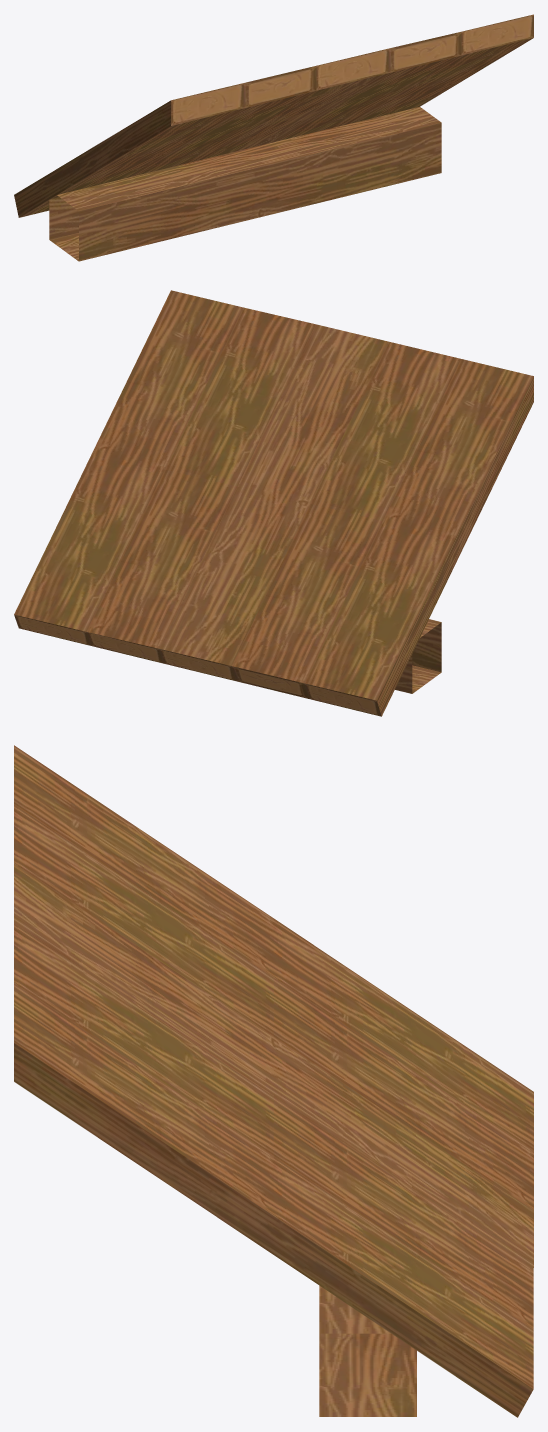
File: roof_wooden_2x1_center_mirror.glb
The picture shows the model from 3 angles, top to bottom: view 1: azimuth 30°, elevation 25°; view 2: azimuth 150°, elevation 25°; view 3: azimuth 270°, elevation 25°; orthographic projection. The views are drawn at different scales.
Size of the model in its own units: 2 by 1.21 by 1.5.
1 material, 1 textured.
